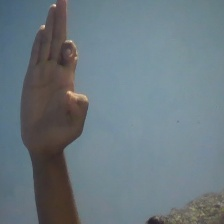F: (18, 1, 90, 153)
